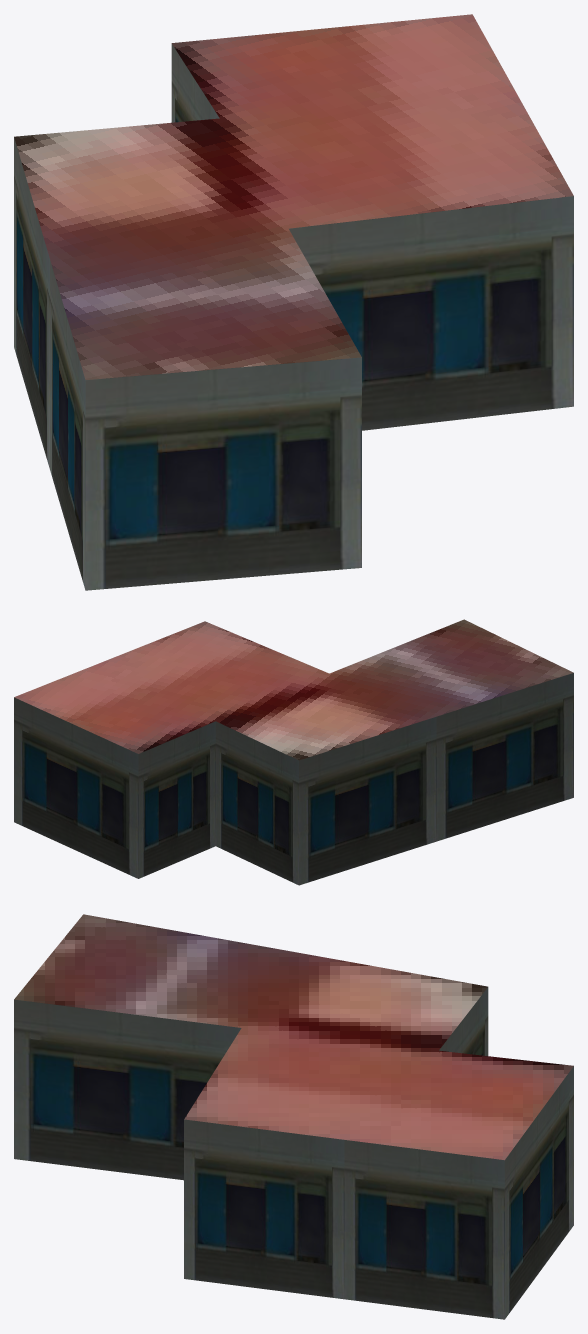
The model's file is T_1T7JA4PCHQ.dae.
3 renders of one model, top to bottom at view 1: azimuth 30°, elevation 25°; view 2: azimuth 150°, elevation 25°; view 3: azimuth 270°, elevation 25°, orthographic. The views are drawn at different scales.
Parts seen in each view (by area): view 1: SketchUp (×5); view 2: SketchUp (×5); view 3: SketchUp (×5).
Part boxes in pixels (x1,y1,x2,y2): SketchUp (×5): [14, 14, 573, 590]; SketchUp (×5): [14, 619, 573, 885]; SketchUp (×5): [14, 914, 573, 1319].
Bounding box in the file's own units: 14.45 × 13.91 × 4.37.
Materials: 2 (2 with a texture image).
